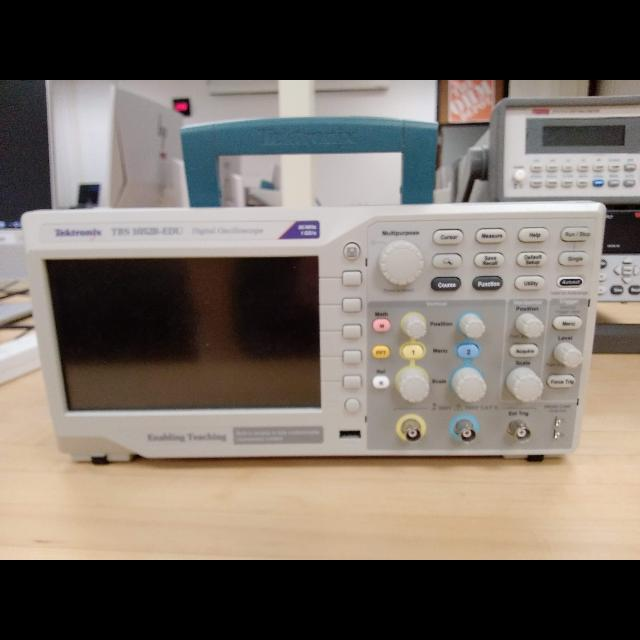Digital-Oscilloscope: (24, 210, 604, 452)
